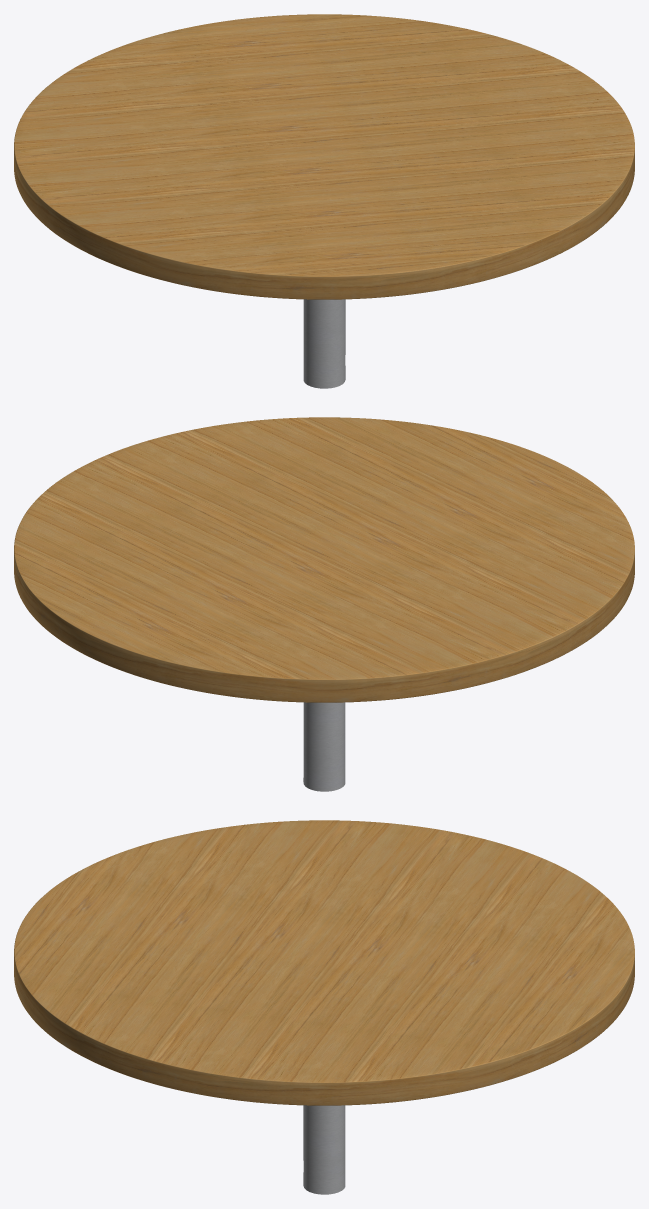
Rendered from stul_05.gltf.
3 views of the same model, one above another, from view 1: azimuth 30°, elevation 25°; view 2: azimuth 150°, elevation 25°; view 3: azimuth 270°, elevation 25° (orthographic).
Visible parts, largest first — view 1: object_20.003, object_1.018; view 2: object_20.003, object_1.018; view 3: object_20.003, object_1.018.
Boxes of the visible parts, x1,y1,x2,y2 form: object_20.003: (14, 14, 634, 299); object_1.018: (303, 299, 345, 388); object_20.003: (14, 417, 634, 702); object_1.018: (303, 702, 345, 791); object_20.003: (14, 820, 634, 1105); object_1.018: (303, 1105, 345, 1194).
Size of the model in its own units: 1.8 by 0.75 by 1.8.
Materials: 5 (3 with a texture image).
